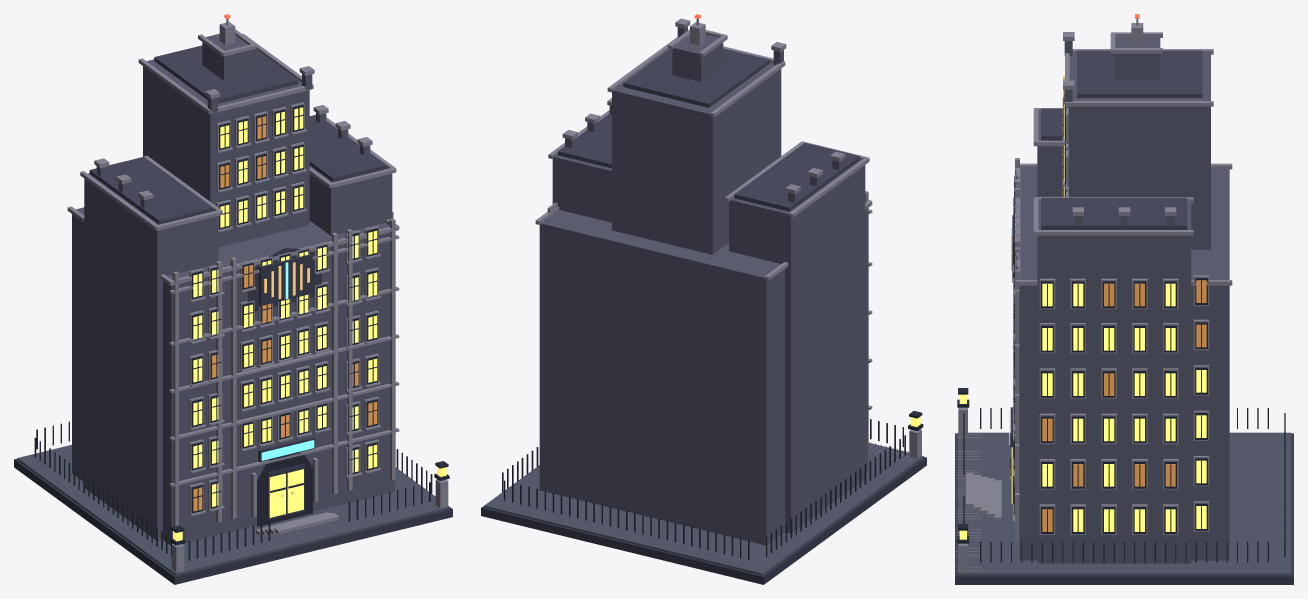
The model's file is account_building_04.glb.
3 views of the same model, side by side, from view 1: azimuth 30°, elevation 25°; view 2: azimuth 150°, elevation 25°; view 3: azimuth 270°, elevation 25° (orthographic). The views are drawn at different scales.
Visible parts, largest first — view 1: SM_Account_Building_04; view 2: SM_Account_Building_04; view 3: SM_Account_Building_04.
Boxes of the visible parts, x1,y1,x2,y2 form: SM_Account_Building_04: (14,14,452,584); SM_Account_Building_04: (481,14,926,584); SM_Account_Building_04: (955,14,1293,584).
Size of the model in its own units: 13.2 by 21.42 by 13.2.
